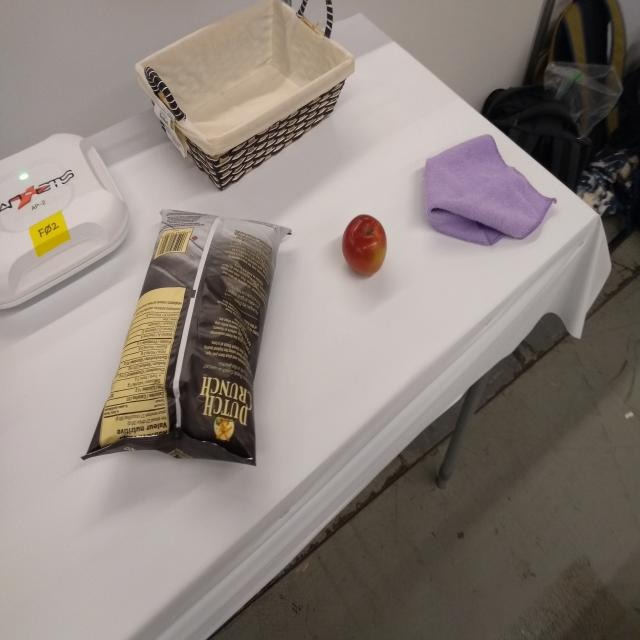apple: (340, 210, 390, 279)
cloth_opl: (420, 131, 557, 248)
potato_chips: (78, 200, 295, 478)
